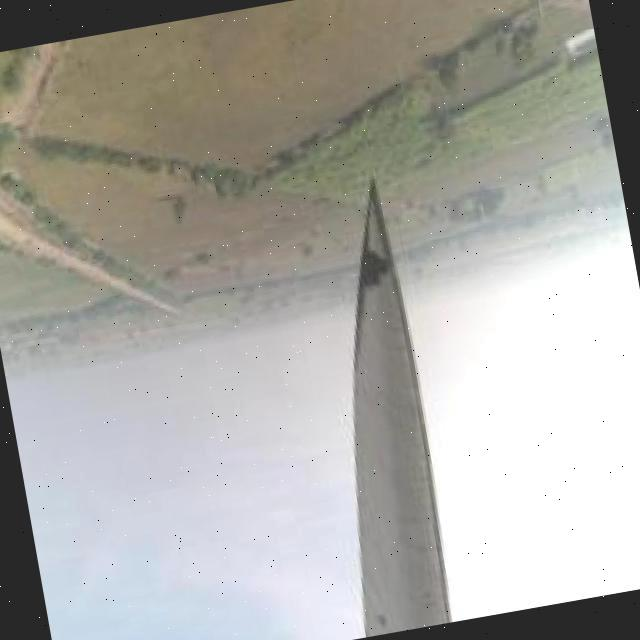Dirt: (351, 179, 453, 640)
Oil LEAKAGE: (350, 209, 395, 347)
Pin Hole: (375, 609, 390, 629)
